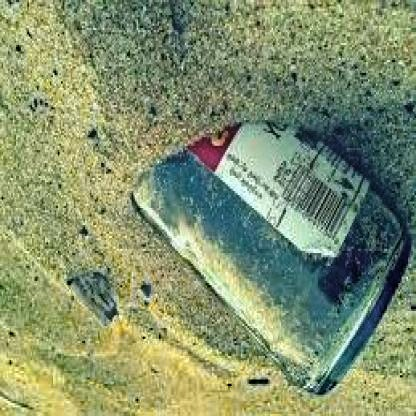gbottle: (130, 109, 413, 392)
